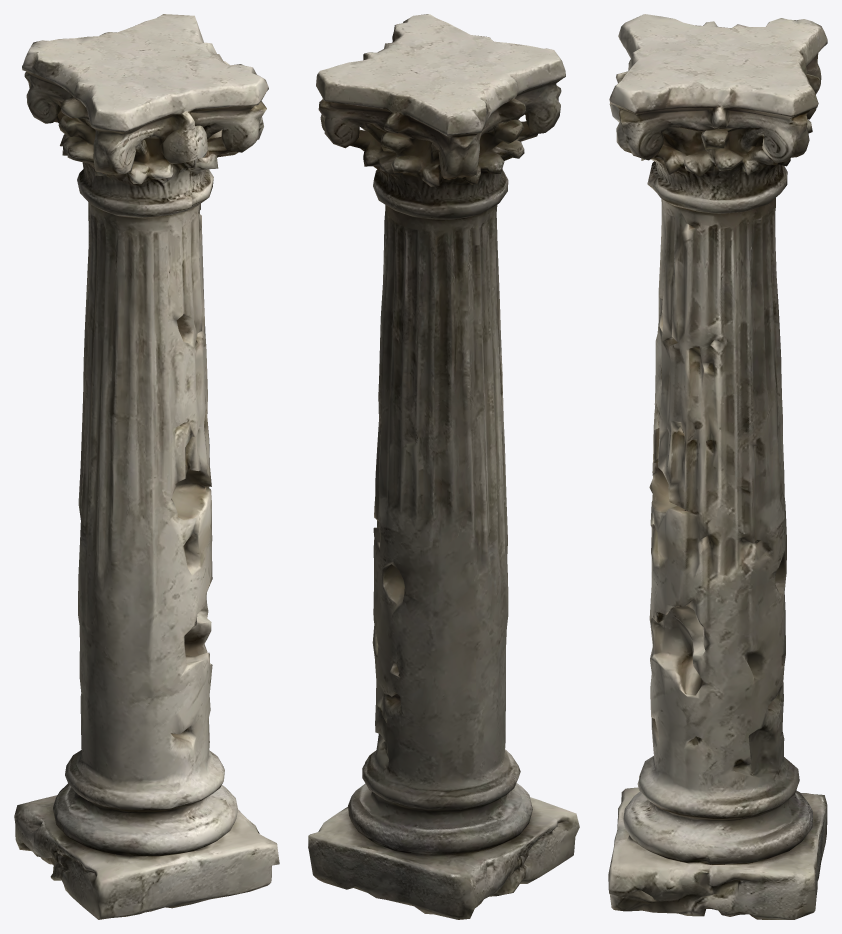
The model's file is column.glb.
The picture shows the model from 3 angles, left to right: view 1: azimuth 30°, elevation 25°; view 2: azimuth 150°, elevation 25°; view 3: azimuth 270°, elevation 25°; orthographic projection. The views are drawn at different scales.
Parts seen in each view (by area): view 1: tripo_node_0481c86d-0827-4dd7-b09c-21d32265a79d; view 2: tripo_node_0481c86d-0827-4dd7-b09c-21d32265a79d; view 3: tripo_node_0481c86d-0827-4dd7-b09c-21d32265a79d.
Part boxes in pixels (x1=…): tripo_node_0481c86d-0827-4dd7-b09c-21d32265a79d: x1=14, y1=14, x2=279, y2=919; tripo_node_0481c86d-0827-4dd7-b09c-21d32265a79d: x1=308, y1=14, x2=579, y2=919; tripo_node_0481c86d-0827-4dd7-b09c-21d32265a79d: x1=608, y1=14, x2=827, y2=919.
Bounding box in the file's own units: 0.2374 × 1 × 0.2412.
Materials: 1 (1 with a texture image).
